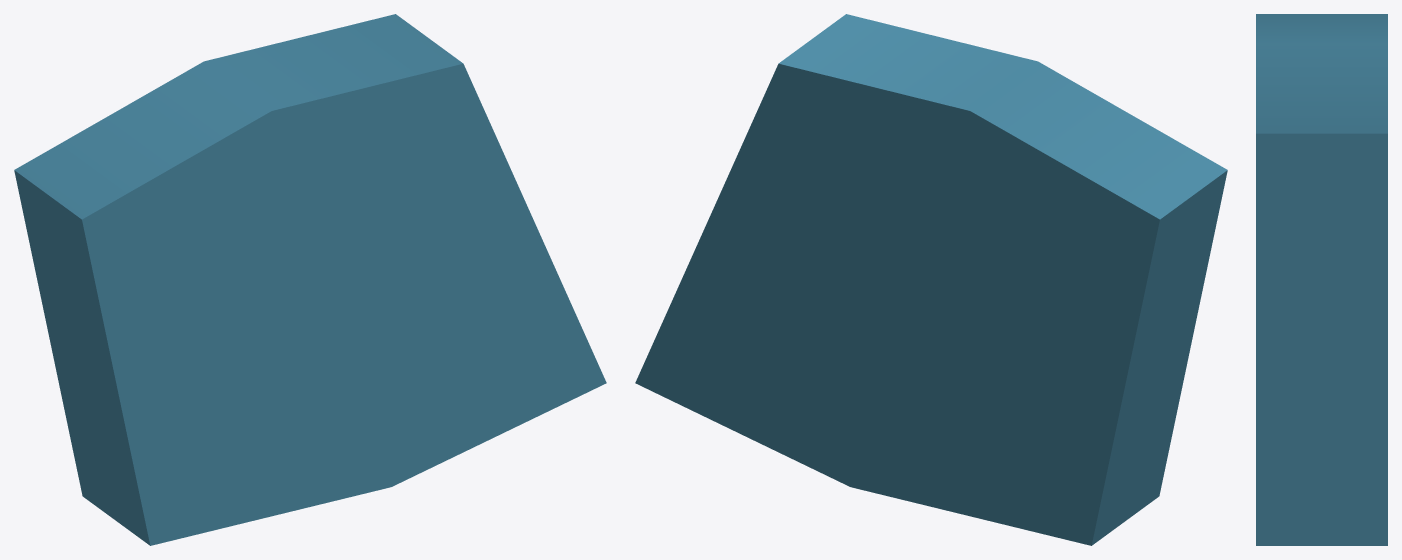
The model's file is NexusA_Trigger_64.fbx.
3 renders of one model, left to right at view 1: azimuth 30°, elevation 25°; view 2: azimuth 150°, elevation 25°; view 3: azimuth 270°, elevation 25°, orthographic. The views are drawn at different scales.
Visible parts, largest first — view 1: pCube12; view 2: pCube12; view 3: pCube12.
Part boxes in pixels (x1,y1,x2,y2): pCube12: (14, 14, 606, 545); pCube12: (635, 14, 1227, 545); pCube12: (1256, 14, 1387, 545).
Bounding box in the file's own units: 53.36 × 39.43 × 11.94.
